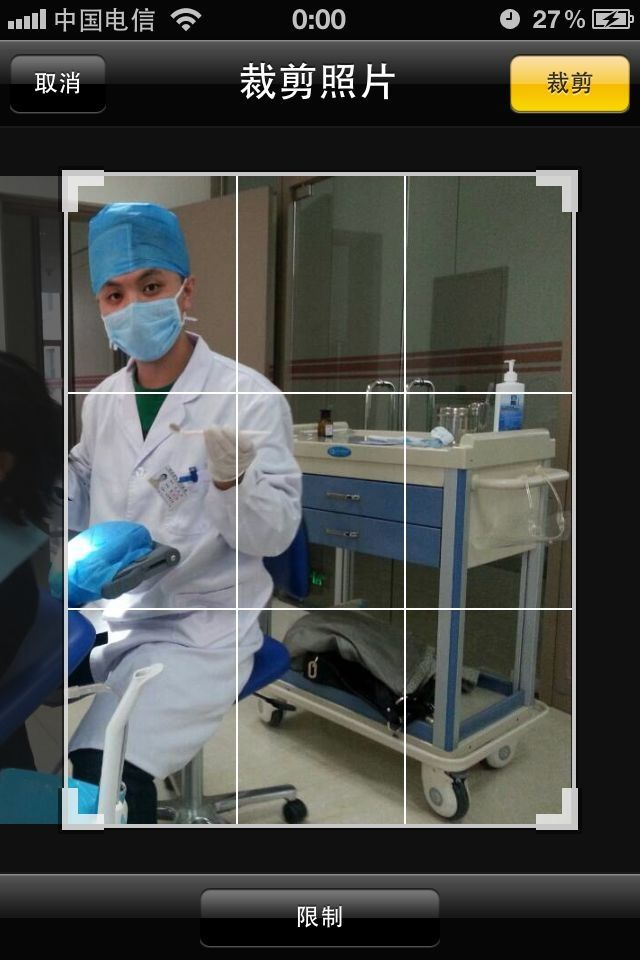face_mask: (97, 244, 180, 359)
